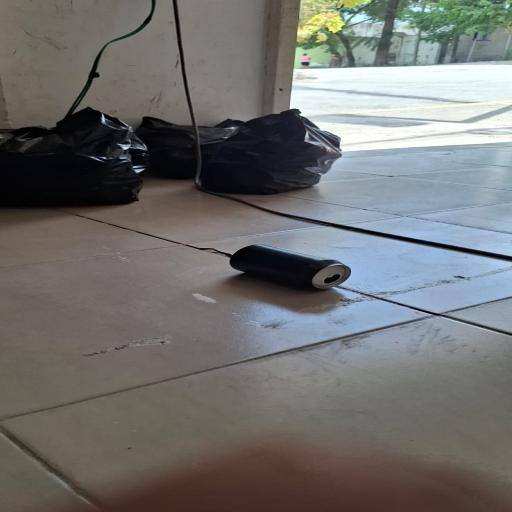LATA: (229, 245, 356, 294)
